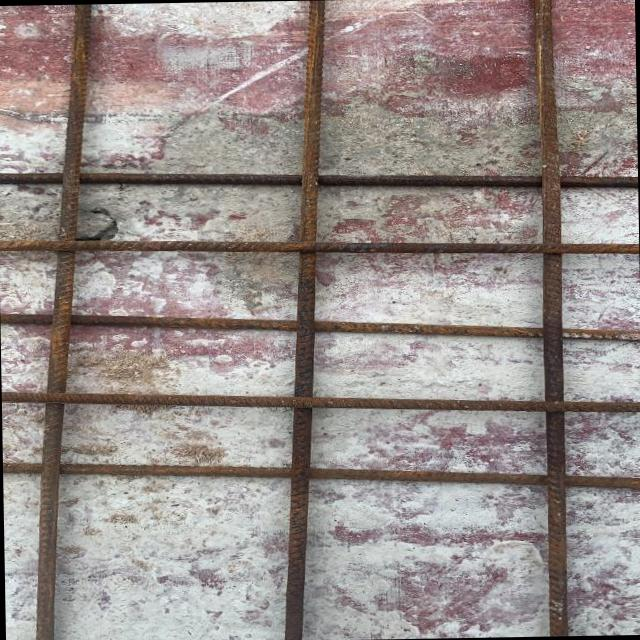ribbed bar: (21, 4, 105, 640), (270, 0, 338, 640), (0, 301, 640, 352), (3, 450, 640, 498), (2, 380, 640, 423), (529, 0, 570, 635), (0, 161, 637, 200), (0, 229, 638, 264)
